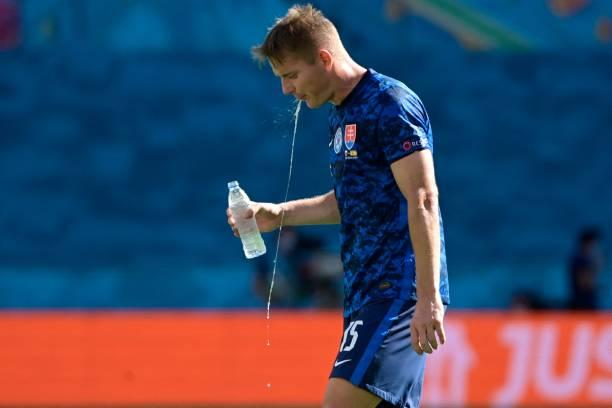Spitting: (229, 11, 366, 138)
